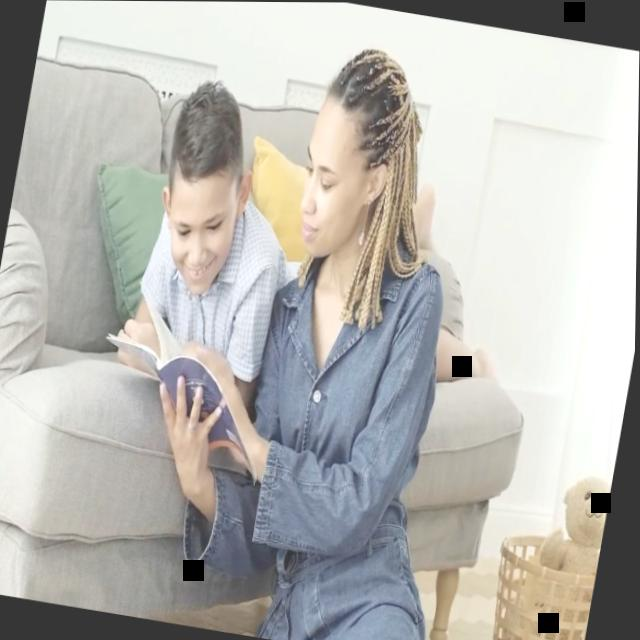NO-Mask: (289, 116, 377, 263), (158, 173, 243, 299)
